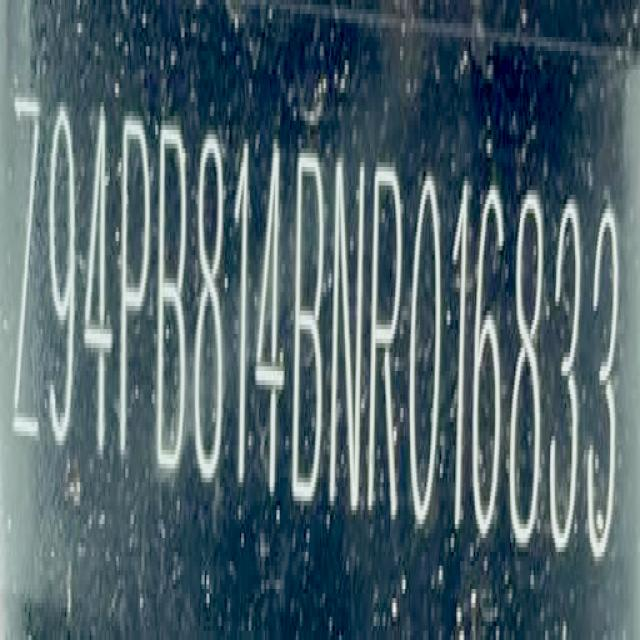0: (410, 170, 445, 535)
1: (451, 170, 472, 541), (233, 130, 250, 497)
3: (590, 200, 622, 563), (554, 194, 584, 560)
4: (84, 107, 115, 474), (257, 133, 287, 501)
6: (474, 180, 505, 547)
8: (514, 186, 546, 552), (196, 129, 228, 493)
9: (49, 100, 80, 464)
B: (294, 145, 328, 511), (158, 114, 191, 487)
N: (330, 150, 364, 520)
P: (120, 109, 155, 481)
R: (371, 157, 404, 523)
Z: (12, 83, 43, 458)
